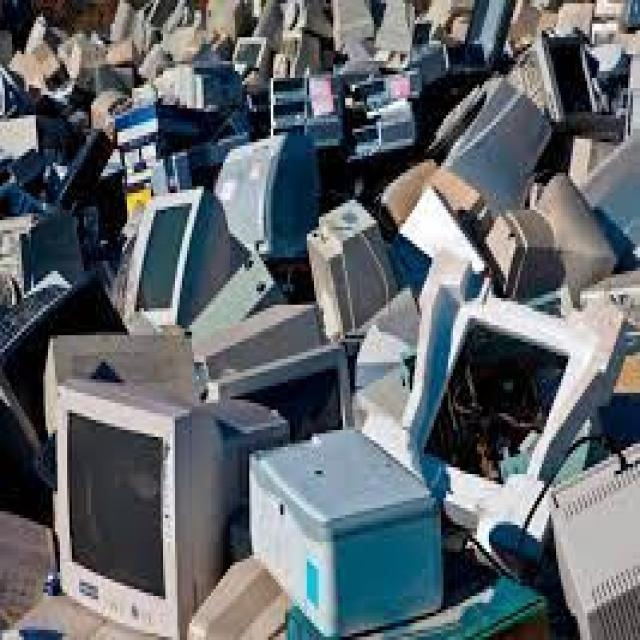Hazard: (0, 1, 640, 640)
